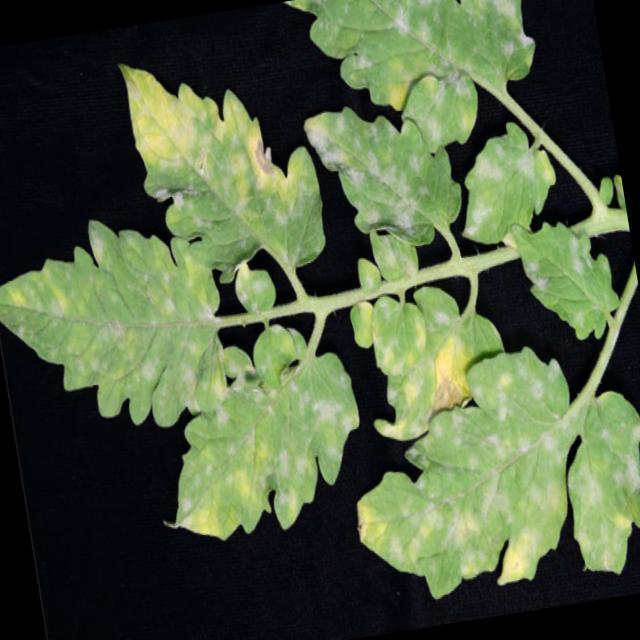Mosaic Virus: (346, 370, 601, 606), (132, 44, 324, 287), (150, 330, 360, 542), (0, 245, 222, 439), (308, 103, 454, 284), (351, 278, 492, 444), (309, 0, 527, 92), (508, 216, 628, 350), (557, 403, 640, 568), (454, 130, 558, 243), (399, 63, 487, 153), (228, 259, 278, 328)
